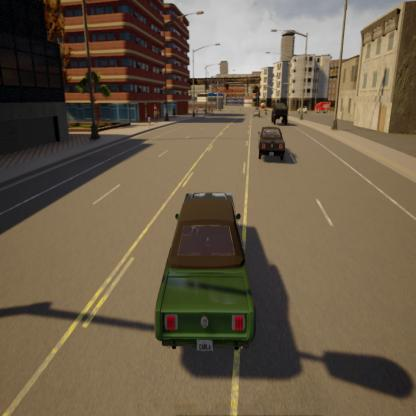Cars: (153, 188, 255, 358), (258, 125, 286, 164), (272, 101, 288, 127), (315, 101, 331, 119), (252, 105, 260, 118)
Pedestrian: (154, 103, 158, 120), (148, 113, 152, 126)
